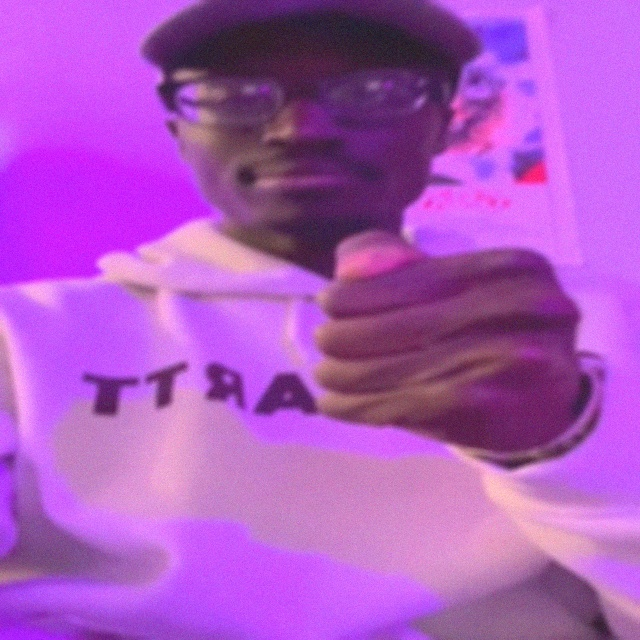Rock: (310, 231, 586, 445)
